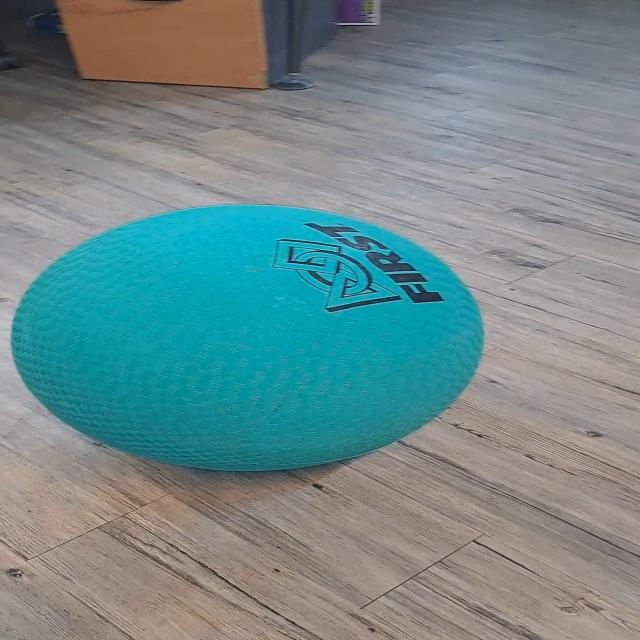ALGAE: (9, 203, 485, 473)
